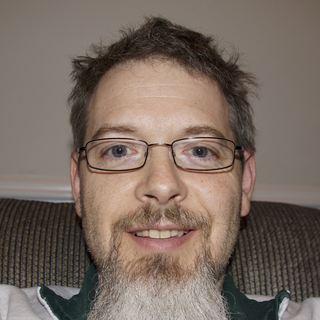eye: (182, 141, 225, 165), (97, 141, 139, 165)
